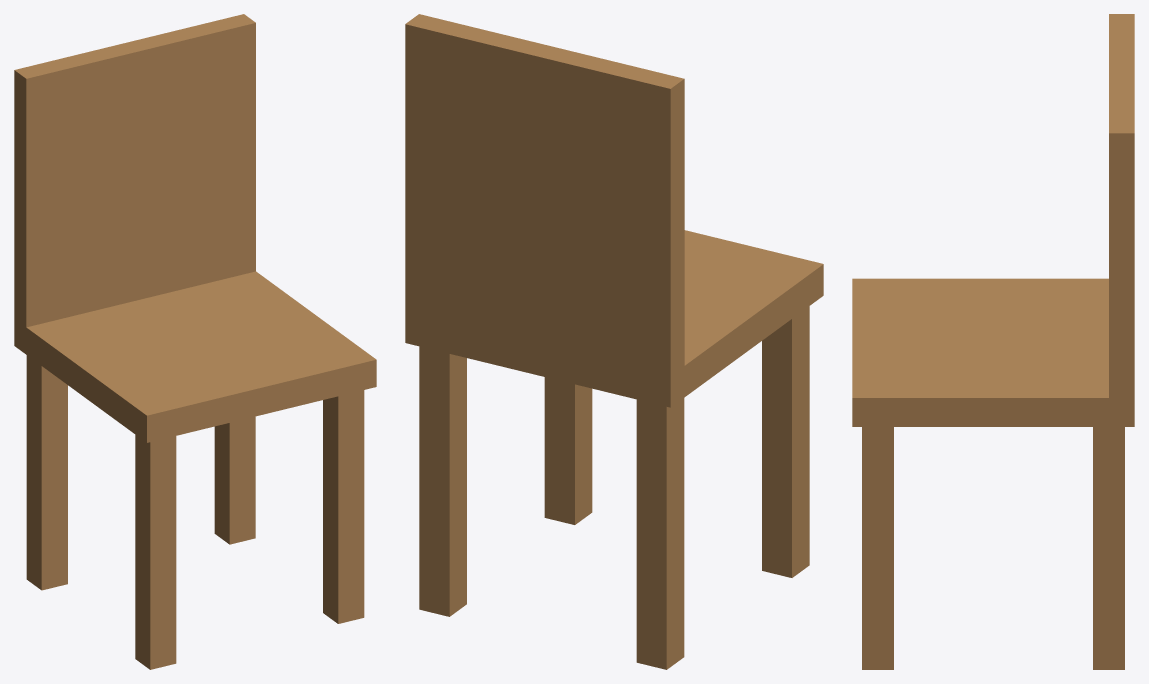
3 renders of one model, left to right at view 1: azimuth 30°, elevation 25°; view 2: azimuth 150°, elevation 25°; view 3: azimuth 270°, elevation 25°, orthographic. The views are drawn at different scales.
Parts seen in each view (by area): view 1: silla_meetl_n0; view 2: silla_meetl_n0; view 3: silla_meetl_n0.
Boxes of the visible parts, x1,y1,x2,y2 form: silla_meetl_n0: [14, 14, 376, 669]; silla_meetl_n0: [405, 14, 823, 669]; silla_meetl_n0: [852, 14, 1134, 669].
Bounding box in the file's own units: 0.44 × 0.44 × 0.93.
